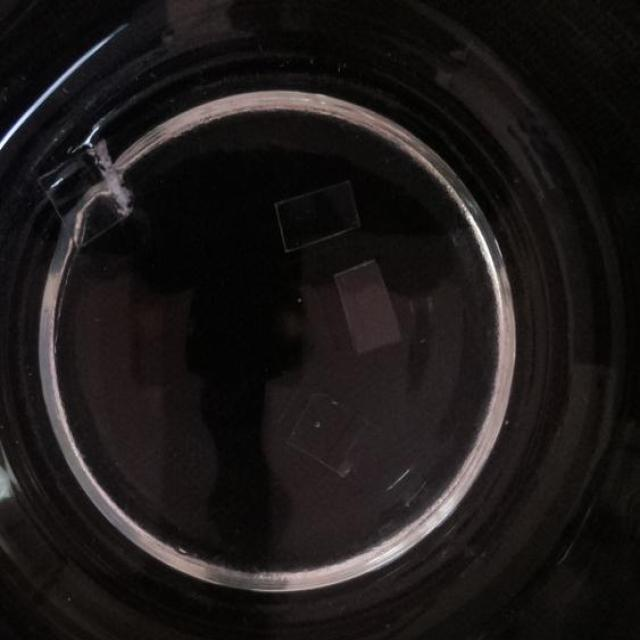fiber: (33, 140, 133, 248), (289, 387, 369, 472), (272, 183, 371, 250), (334, 257, 399, 354), (387, 464, 422, 507)
